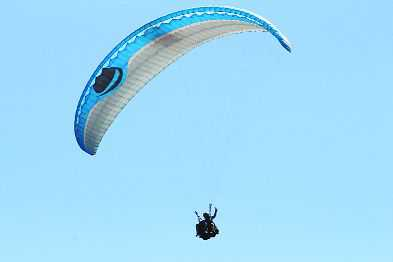Paraglider: (63, 4, 296, 159)
